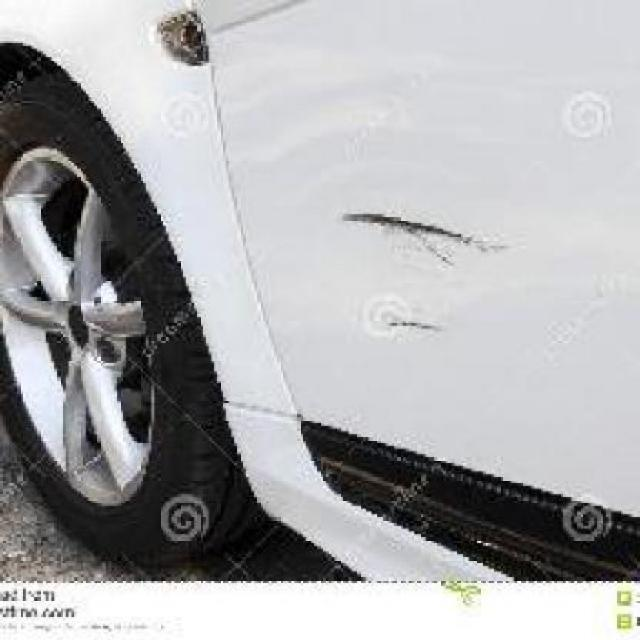dent-or-scratch: (352, 186, 492, 340)
